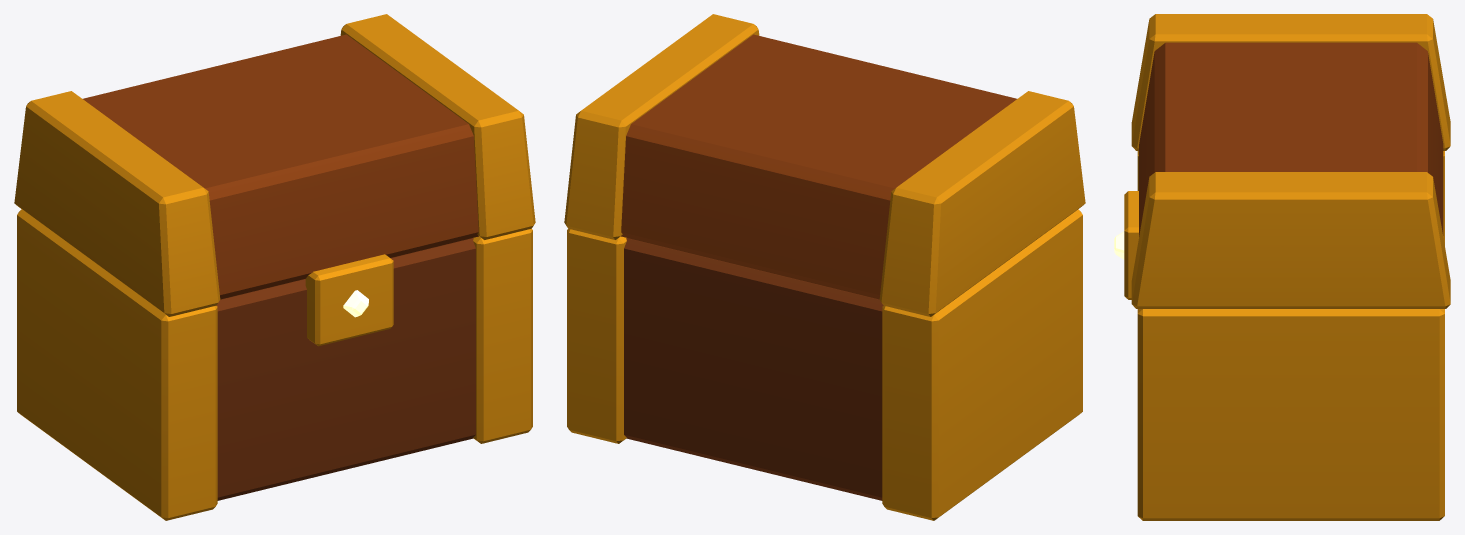
Rendered from chest.glb.
The picture shows the model from 3 angles, left to right: view 1: azimuth 30°, elevation 25°; view 2: azimuth 150°, elevation 25°; view 3: azimuth 270°, elevation 25°; orthographic projection. The views are drawn at different scales.
Visible parts, largest first — view 1: ChestBase, ChestLid; view 2: ChestBase, ChestLid; view 3: ChestLid, ChestBase.
Boxes of the visible parts, x1,y1,x2,y2 form: ChestBase: (17, 209, 532, 520); ChestLid: (14, 14, 535, 316); ChestBase: (567, 209, 1082, 520); ChestLid: (564, 14, 1085, 316); ChestLid: (1131, 14, 1450, 308); ChestBase: (1114, 151, 1444, 520).
Bounding box in the file's own units: 0.66 × 0.54 × 0.5038.
